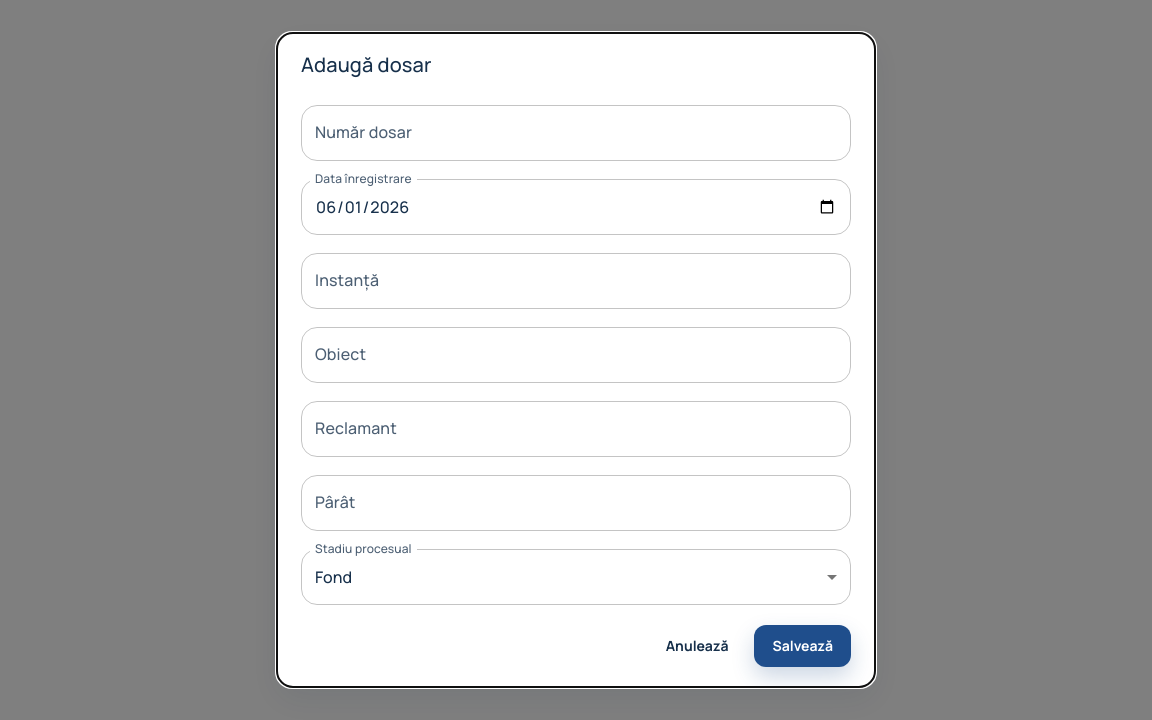
Test case: CaseFormDialog › validează câmpurile obligatorii
Click the button "Salvează" at (803,646), box [754,625,851,667]
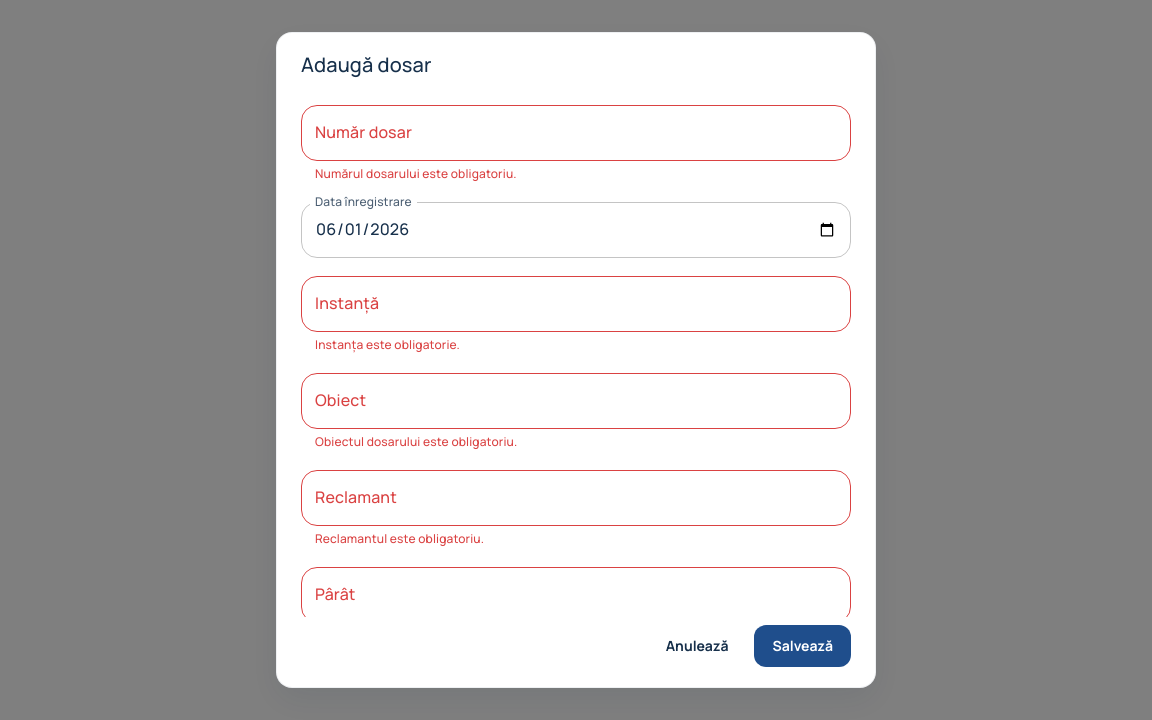
Check: the text "Numărul dosarului este obligatoriu." is shown, box [315,165,517,182]
